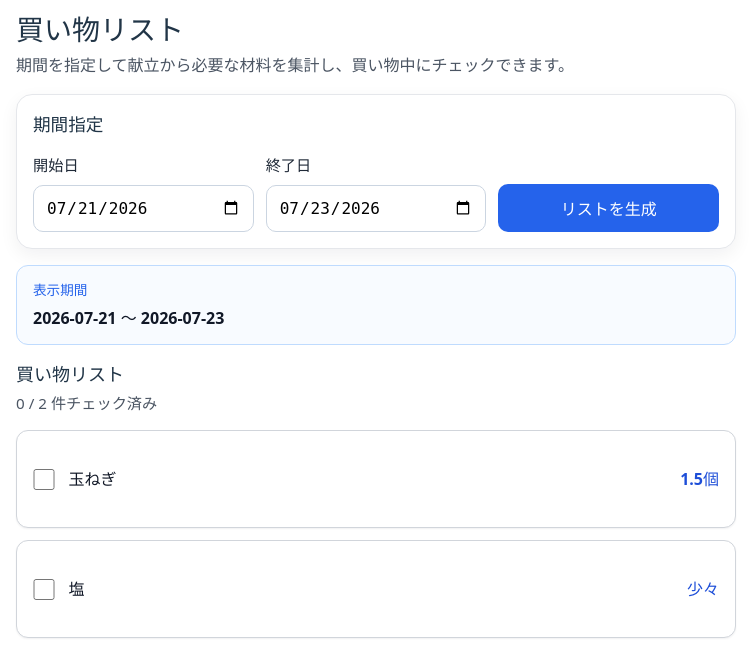
Test: ShoppingListPage › 対象項目だけをチェックし期間変更後に状態をリセットする
Click the checkbox labelled "玉ねぎ 1.5個": (44, 479) [33,469,55,490]
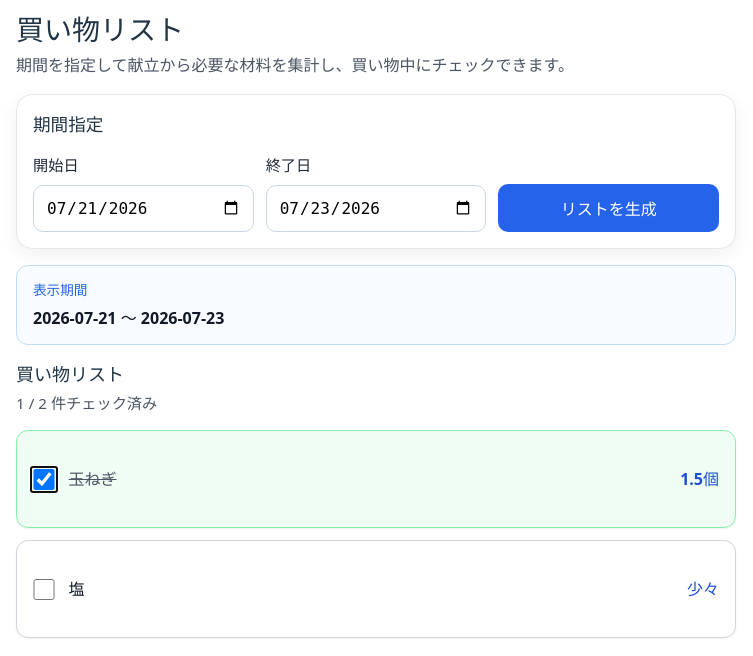
Expected: the checkbox labelled "塩 少々" is not checked, [33,579,55,600]
Now the checkbox labelled "玉ねぎ 1.5個" is checked, box [33,469,55,490]
Now the text "1 / 2 件チェック済み" is shown, box [16,392,157,414]
In the date field labelled "開始日": (143, 208) [33,185,254,232], type "2026-07-24"
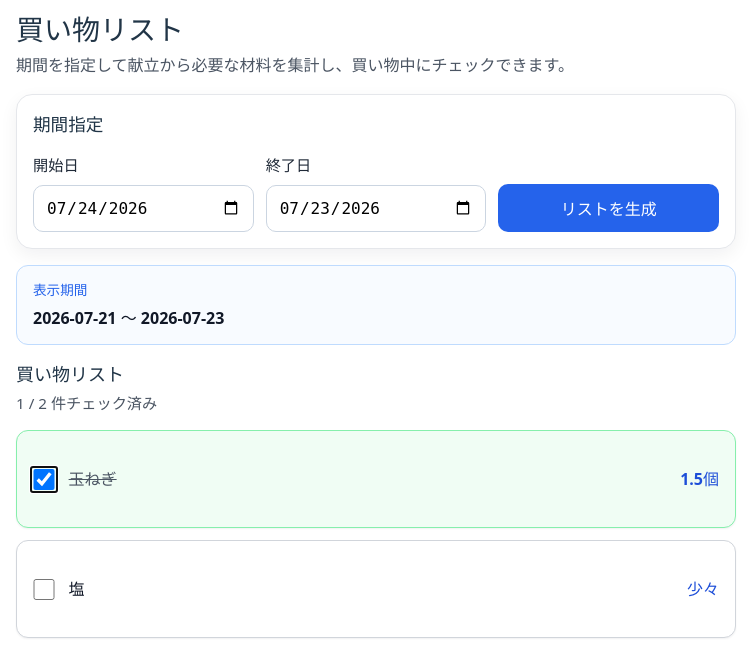
In the date field labelled "終了日": (376, 208) [266,185,486,232], type "2026-07-26"
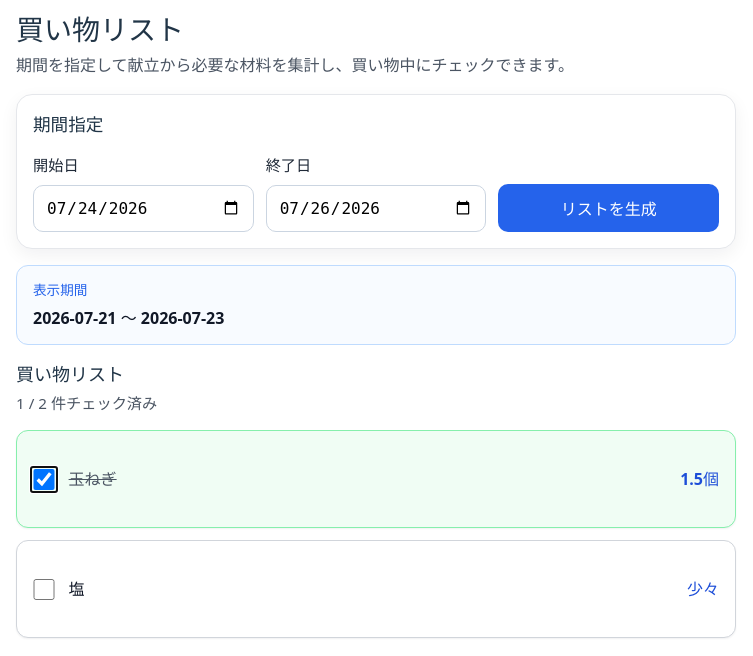
Click the button "リストを生成": (609, 208) [498,184,719,232]
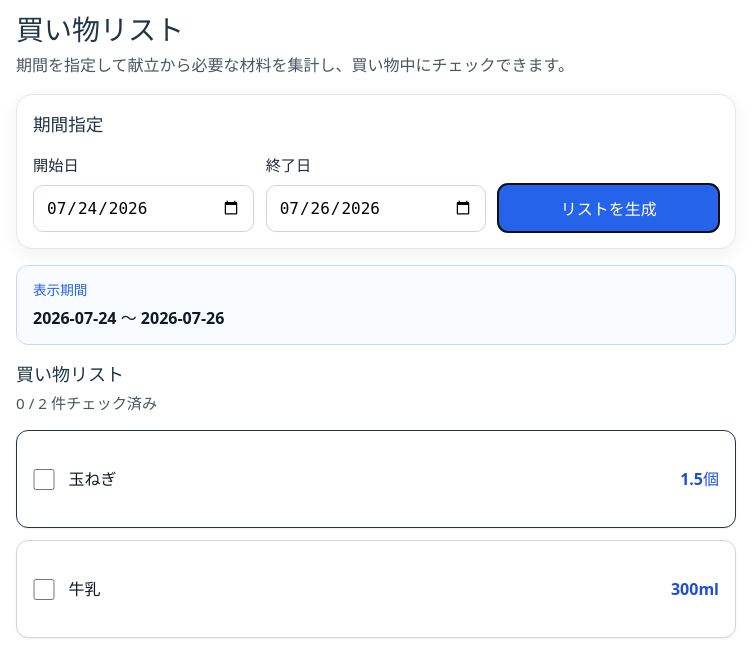
Now the checkbox labelled "玉ねぎ 1.5個" is not checked, box [33,469,55,490]
Now the text "牛乳" is shown, box [69,577,101,601]
Now the text "0 / 2 件チェック済み" is shown, box [16,392,157,414]
